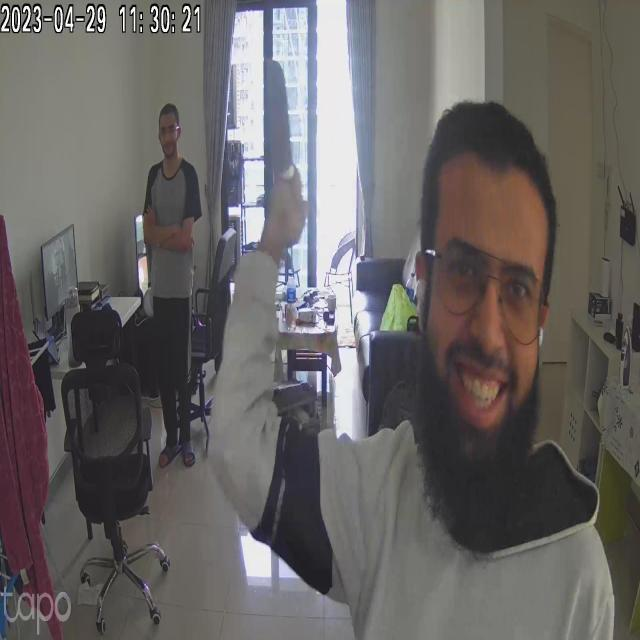Knife: (248, 58, 314, 168)
